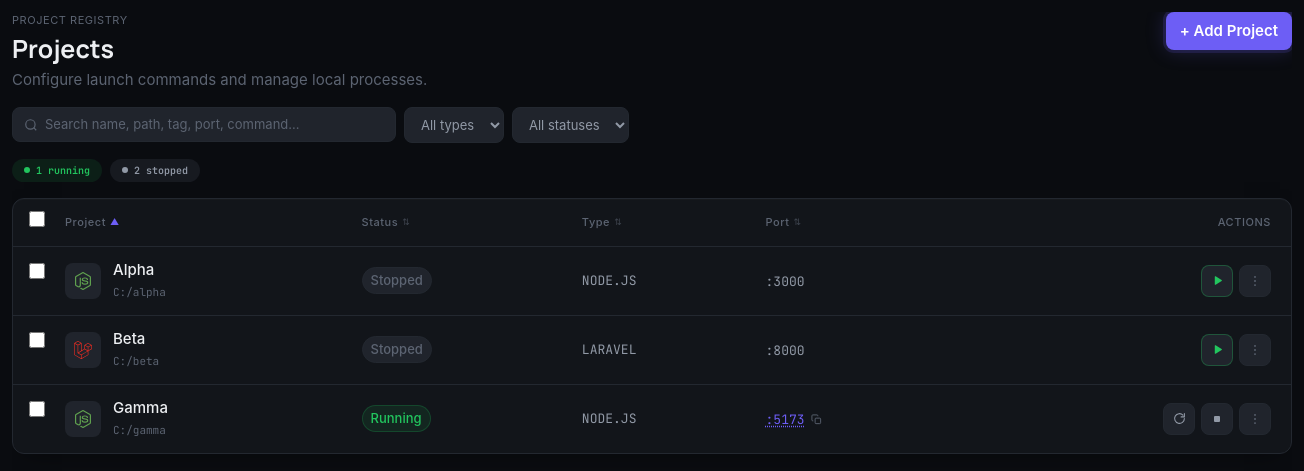
Test: ProjectsView › summary chips filter the list by status when clicked
Click the button "1 running" at (57,170), box [12,158,102,182]
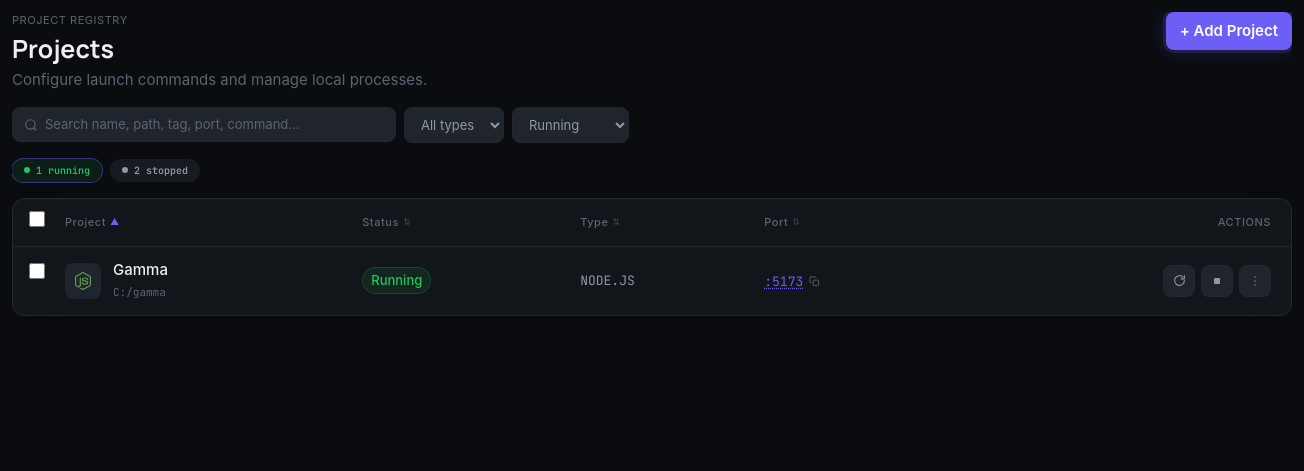
Expected: the text "Gamma" is shown, [113,258,168,280]
Now the button "Alpha" is gone
Now the button "Beta" is gone
